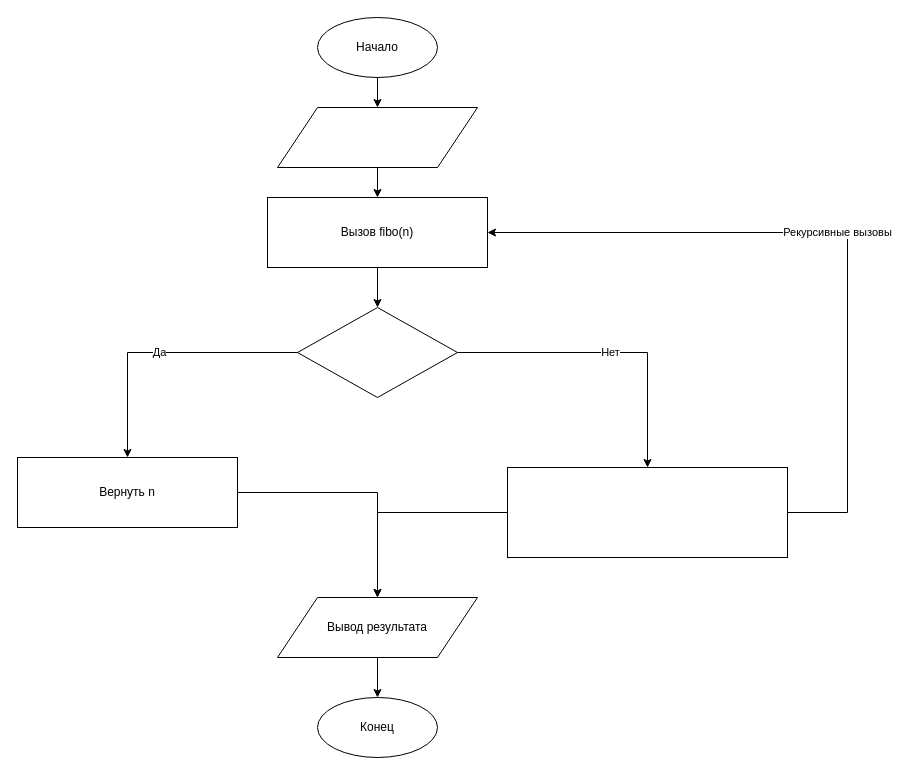
Some shapes in this 909 by 775 pixel diagram are drawn without their labels. The centre of each missing label's shape, as x and y in pixels:
n <= 1?: (377,352)
Ввод n: (377,137)
Вернуть fibo(n - 1) + fibo(n - 2): (647,512)
